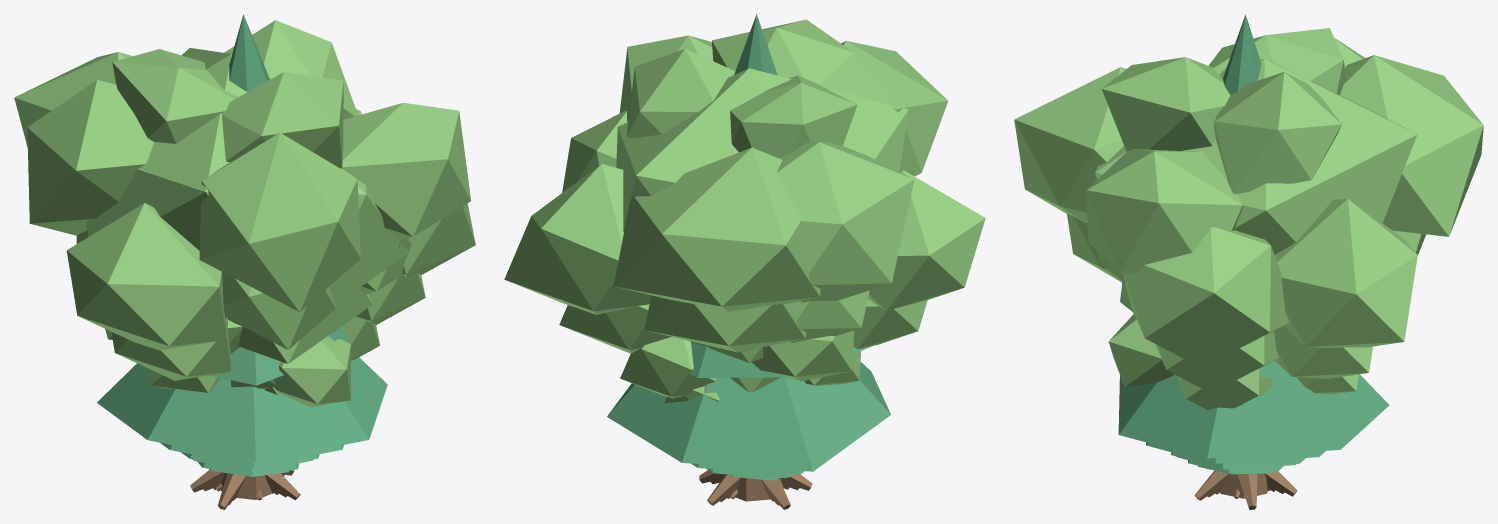
Rendered from trees_8stages.fbx.
The picture shows the model from 3 angles, left to right: view 1: azimuth 30°, elevation 25°; view 2: azimuth 150°, elevation 25°; view 3: azimuth 270°, elevation 25°; orthographic projection.
Parts seen in each view (by area): view 1: Leafy8_Leaves, Pine8_Needles, Leafy7_Leaves, Leafy6_Leaves, Leafy8_Bark, Leafy5_Leaves, Pine7_Needles, Pine6_Needles; view 2: Leafy8_Leaves, Pine8_Needles, Leafy7_Leaves, Leafy6_Leaves, Leafy8_Bark, Leafy5_Leaves; view 3: Leafy8_Leaves, Pine8_Needles, Leafy7_Leaves, Leafy6_Leaves, Leafy8_Bark, Pine7_Needles, Pine6_Needles.
Part boxes in pixels (x1,y1,x2,y2): Leafy8_Leaves: (14,20,475,350); Pine8_Needles: (97,14,387,461); Leafy7_Leaves: (76,230,425,380); Leafy6_Leaves: (105,317,379,406); Leafy8_Bark: (190,470,300,509); Leafy5_Leaves: (146,367,275,392); Pine7_Needles: (160,442,343,466); Pine6_Needles: (181,452,319,471); Leafy8_Leaves: (504,19,985,314); Pine8_Needles: (607,14,890,471); Leafy7_Leaves: (559,290,927,362); Leafy6_Leaves: (620,330,854,398); Leafy8_Bark: (699,470,812,509); Leafy5_Leaves: (664,351,861,403); Leafy8_Leaves: (1014,28,1483,367); Pine8_Needles: (1118,14,1389,458); Leafy7_Leaves: (1067,213,1425,392); Leafy6_Leaves: (1108,314,1358,410); Leafy8_Bark: (1194,470,1297,509); Pine7_Needles: (1146,442,1325,463); Pine6_Needles: (1171,452,1305,468).
Bounding box in the file's own units: 38.21 × 45.01 × 40.5.
